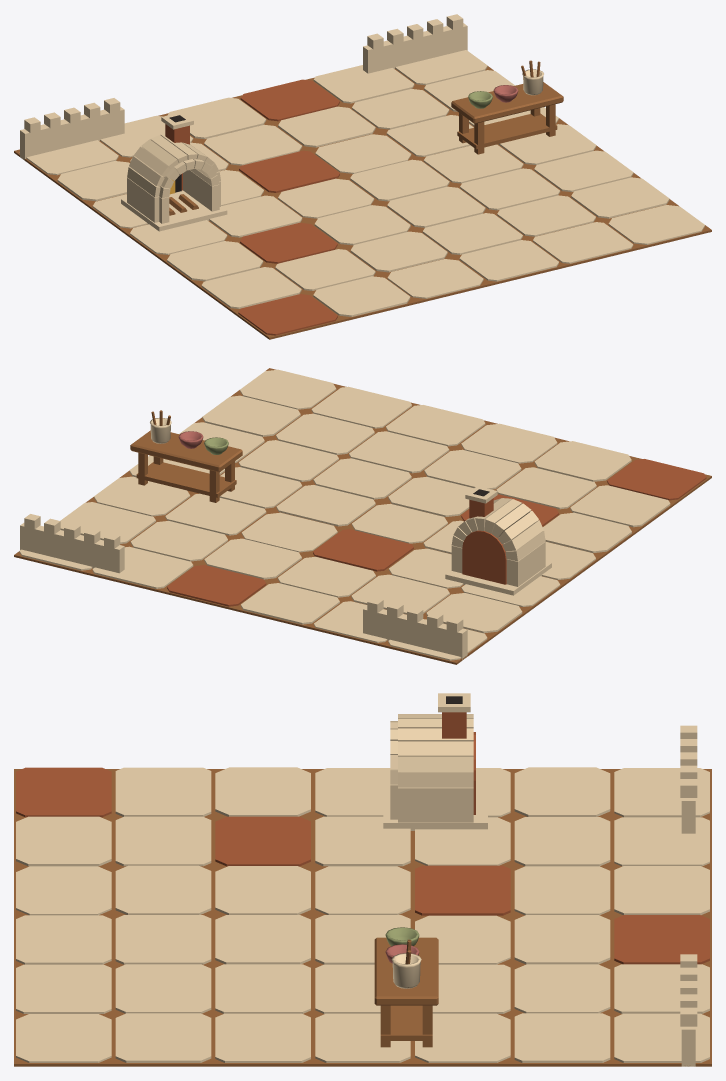
File: courtyard.glb
The picture shows the model from 3 angles, top to bottom: view 1: azimuth 30°, elevation 25°; view 2: azimuth 150°, elevation 25°; view 3: azimuth 270°, elevation 25°; orthographic projection. The views are drawn at different scales.
Visible parts, largest first — view 1: cobbled_floor, floor_grout, kiln_vault, back_wall_left, back_wall_right, bench_top, bench_lower_shelf, kiln_front_arch, kiln_hearth; view 2: cobbled_floor, floor_grout, kiln_vault, back_wall_left, back_wall_right, bench_top, kiln_back, bench_lower_shelf, kiln_hearth; view 3: cobbled_floor, floor_grout, kiln_vault, bench_top, back_wall_right, back_wall_left, kiln_hearth, bench_lower_shelf, tool_pot, kiln_front_arch, kiln_chimney.
Boxes of the visible parts, x1,y1,x2,y2 form: cobbled_floor: (19, 50, 704, 335); floor_grout: (14, 66, 711, 339); kiln_vault: (127, 134, 220, 222); back_wall_left: (20, 98, 124, 160); back_wall_right: (363, 14, 467, 73); bench_top: (451, 82, 563, 123); bench_lower_shelf: (457, 113, 557, 149); kiln_front_arch: (159, 159, 219, 223); kiln_hearth: (121, 190, 227, 231); cobbled_floor: (19, 369, 706, 660); floor_grout: (14, 368, 711, 664); kiln_vault: (451, 498, 545, 586); back_wall_left: (363, 597, 467, 660); back_wall_right: (20, 514, 124, 573); bench_top: (130, 430, 242, 472); kiln_back: (462, 530, 506, 584); bench_lower_shelf: (136, 462, 236, 497); kiln_hearth: (445, 561, 551, 595); cobbled_floor: (16, 767, 709, 1062); floor_grout: (14, 769, 711, 1066); kiln_vault: (398, 714, 473, 822); bench_top: (374, 937, 438, 1005); back_wall_right: (680, 954, 697, 1066); back_wall_left: (680, 725, 697, 833); kiln_hearth: (383, 777, 487, 830); bench_lower_shelf: (380, 1005, 432, 1040); tool_pot: (391, 953, 421, 988); kiln_front_arch: (390, 721, 400, 819); kiln_chimney: (442, 712, 466, 738).
Size of the model in its own units: 12 by 2.24 by 12.
